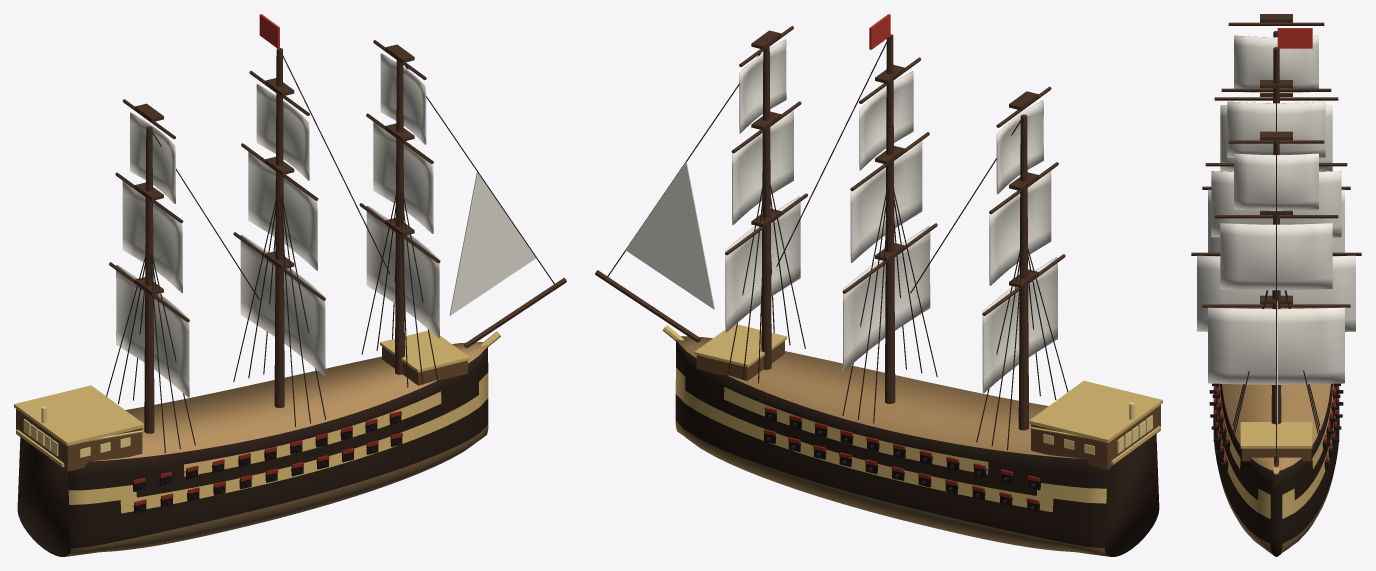
Rendered from ship_1810.glb.
3 renders of one model, left to right at view 1: azimuth 30°, elevation 25°; view 2: azimuth 150°, elevation 25°; view 3: azimuth 270°, elevation 25°, orthographic. The views are drawn at different scales.
Parts seen in each view (by area): view 1: ship_1810; view 2: ship_1810; view 3: ship_1810.
Boxes of the visible parts, x1,y1,x2,y2 form: ship_1810: [14, 14, 566, 556]; ship_1810: [595, 14, 1162, 556]; ship_1810: [1191, 14, 1361, 556].
Size of the model in its own units: 5.26 by 4.55 by 1.55.
